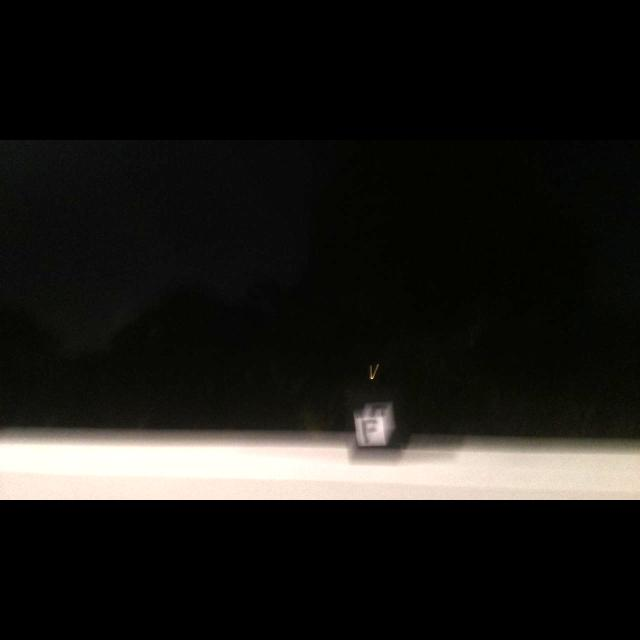F: (361, 419, 378, 444)
